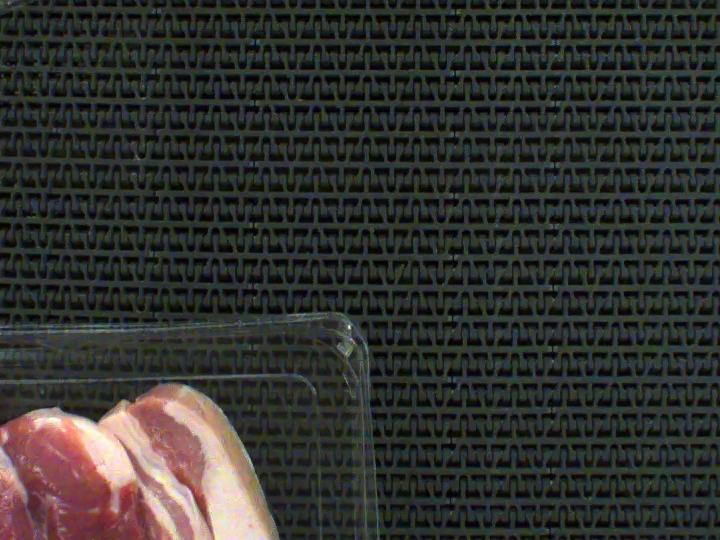twisted-meat: (0, 380, 51, 540)
